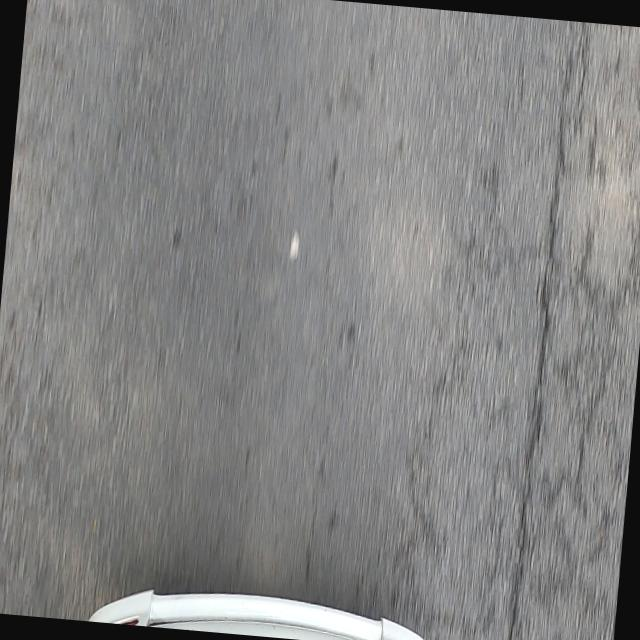Retak-Memanjang: (509, 58, 569, 640)
